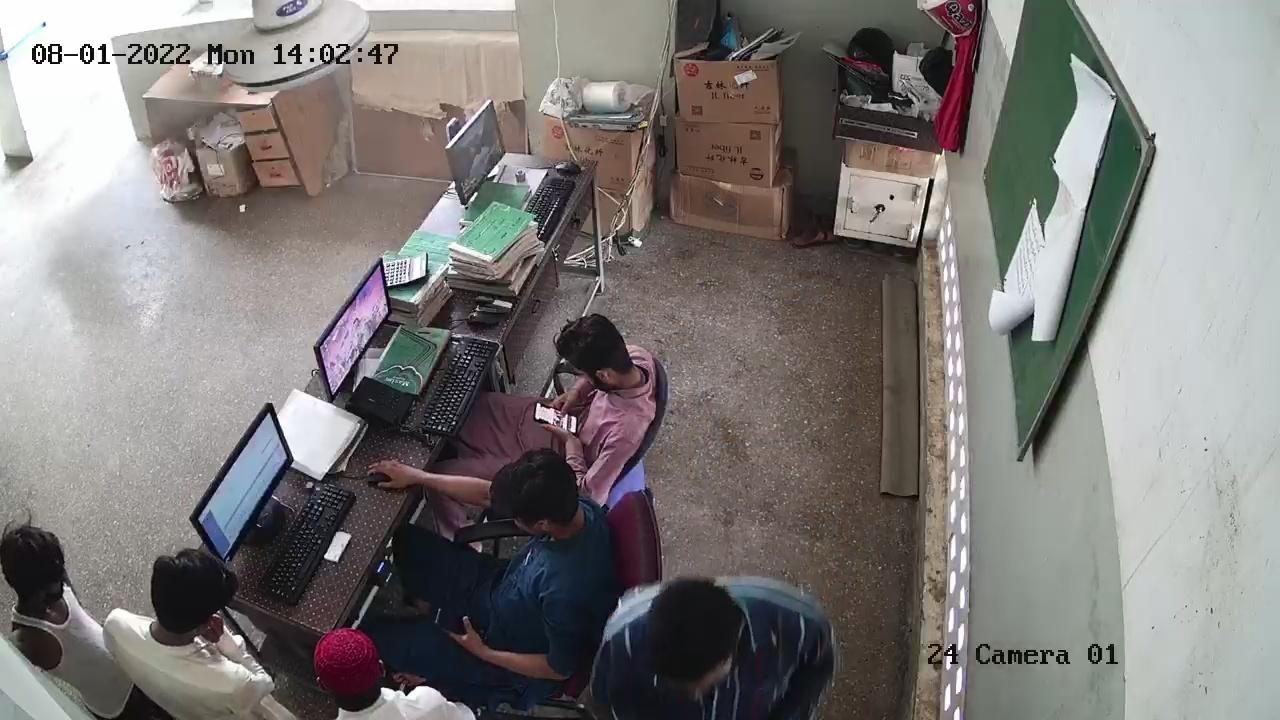person: (404, 452, 601, 683), (612, 577, 839, 720), (470, 307, 666, 460), (112, 548, 277, 712), (1, 518, 135, 705), (301, 628, 455, 720)
